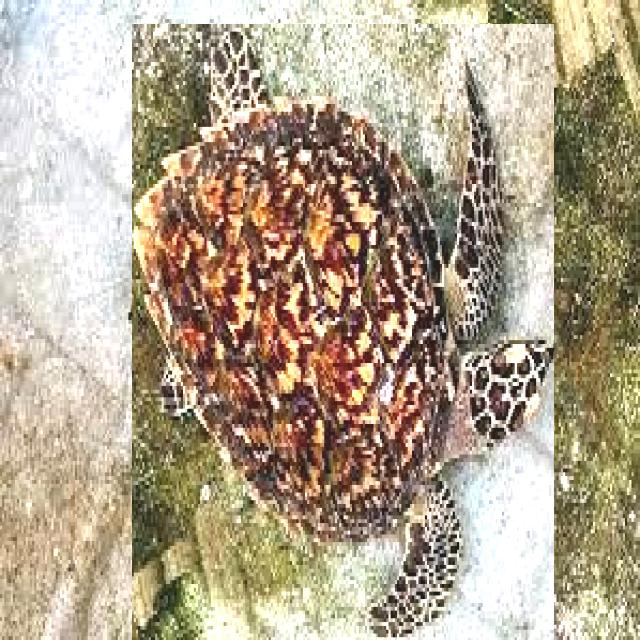Sea turtle: (132, 24, 554, 640)
